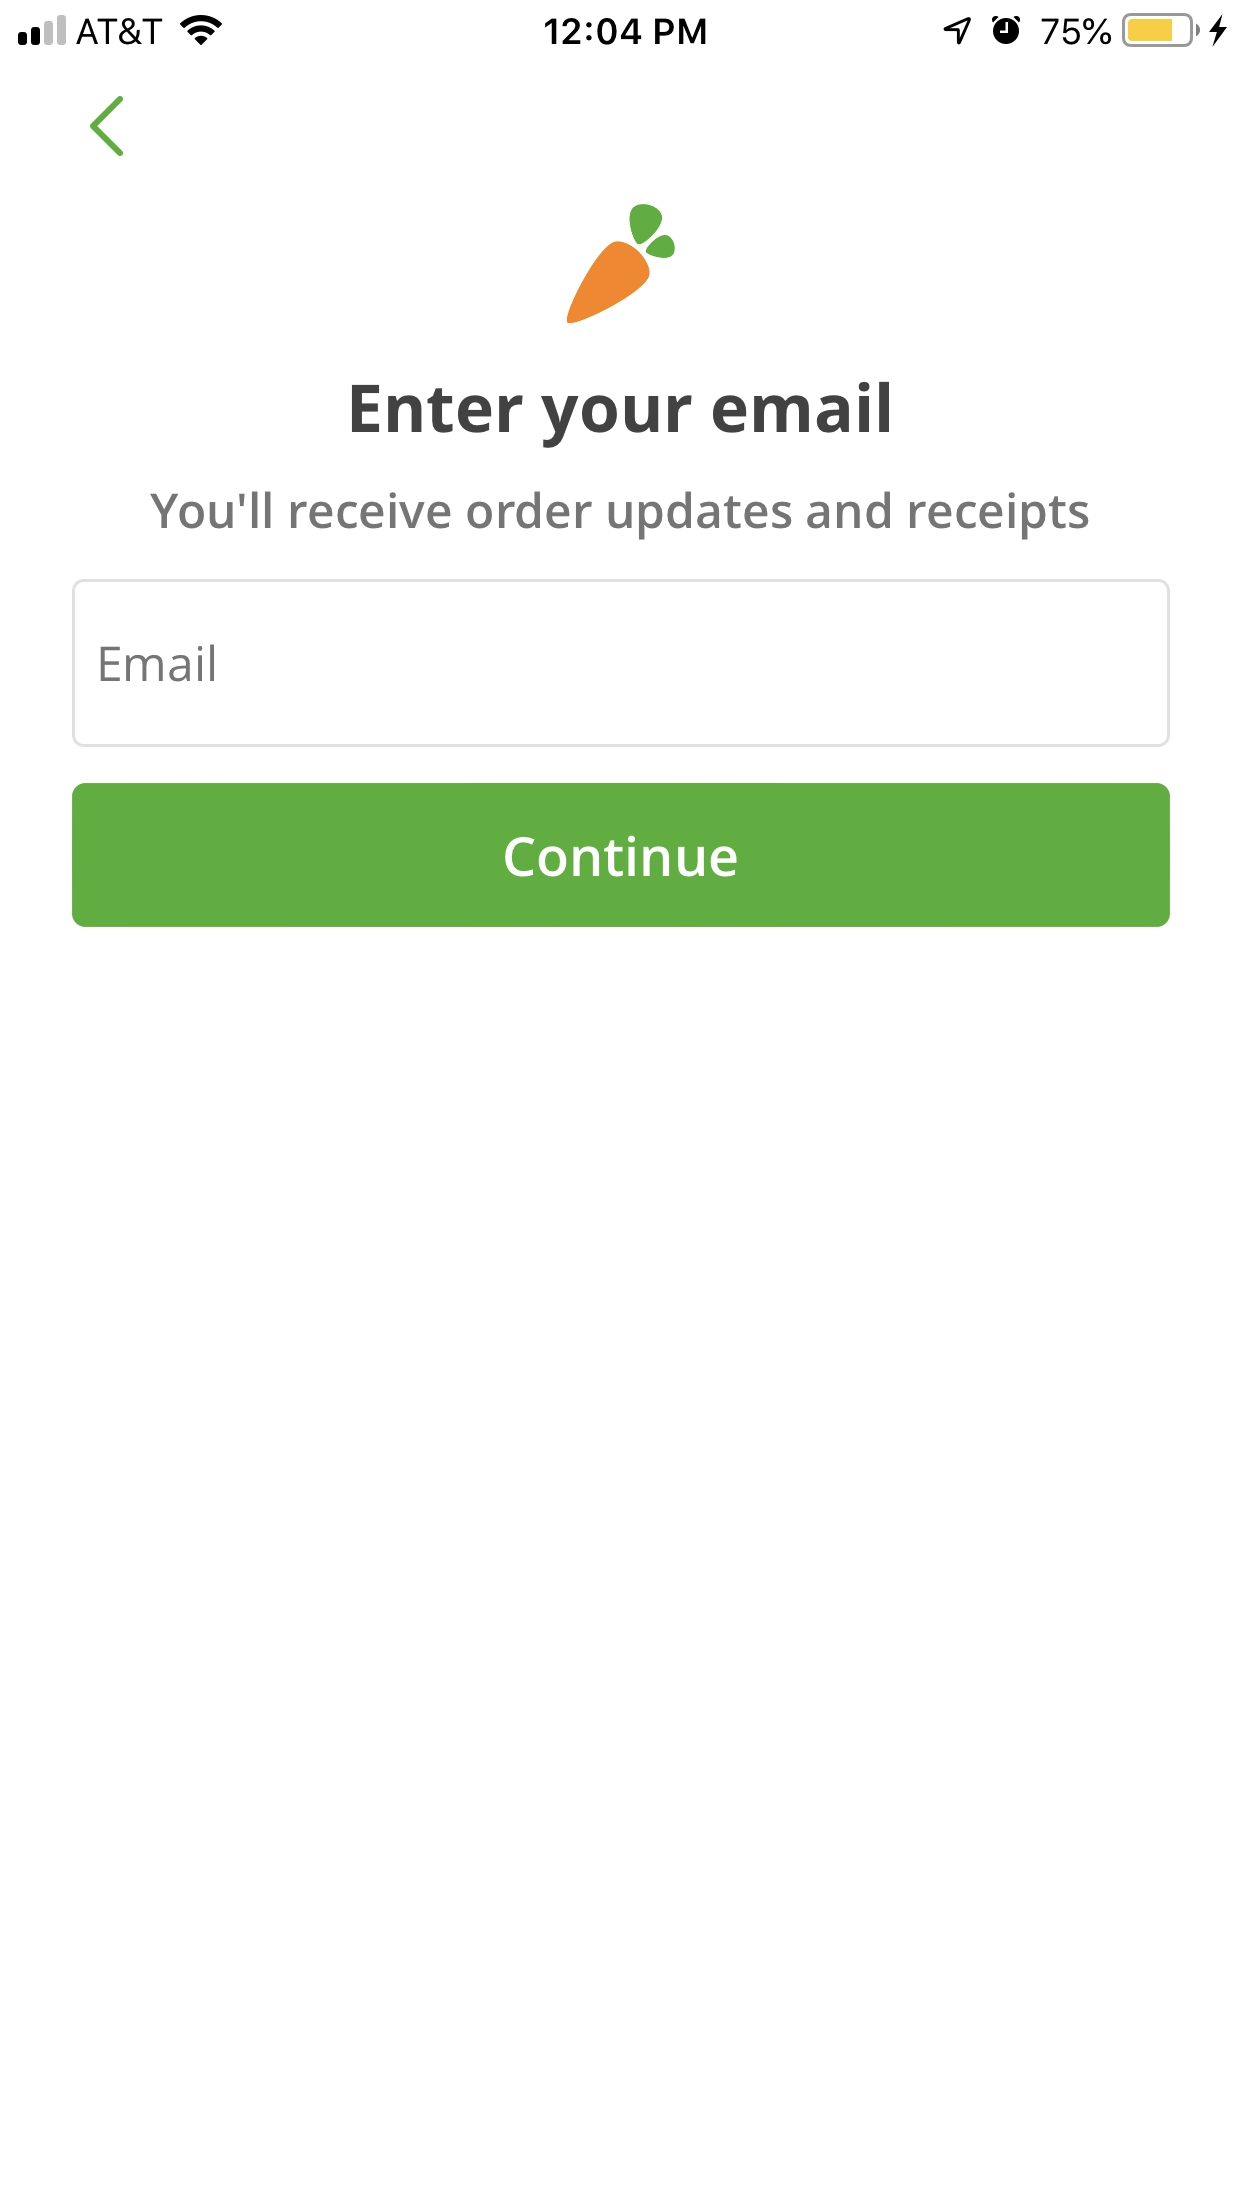EditText: (71, 579, 1171, 749)
Icon: (89, 96, 124, 158)
Image: (567, 205, 676, 325)
Text: (150, 491, 1089, 541), (352, 381, 890, 449), (102, 643, 215, 682)
TextButton: (71, 783, 1171, 928)
UpperTaskBar: (2, 2, 1242, 49)
